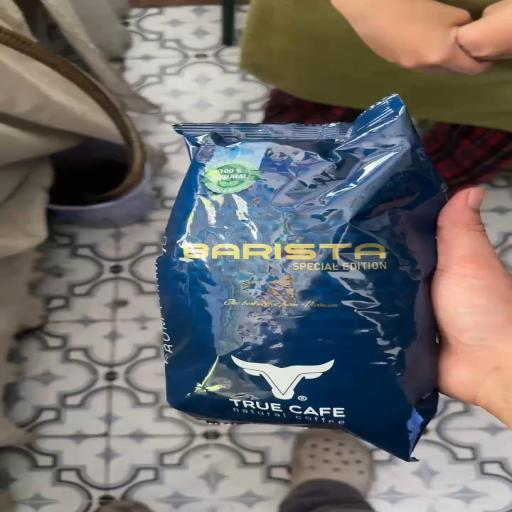cafe_hat: (156, 95, 445, 460), (156, 95, 445, 459)
